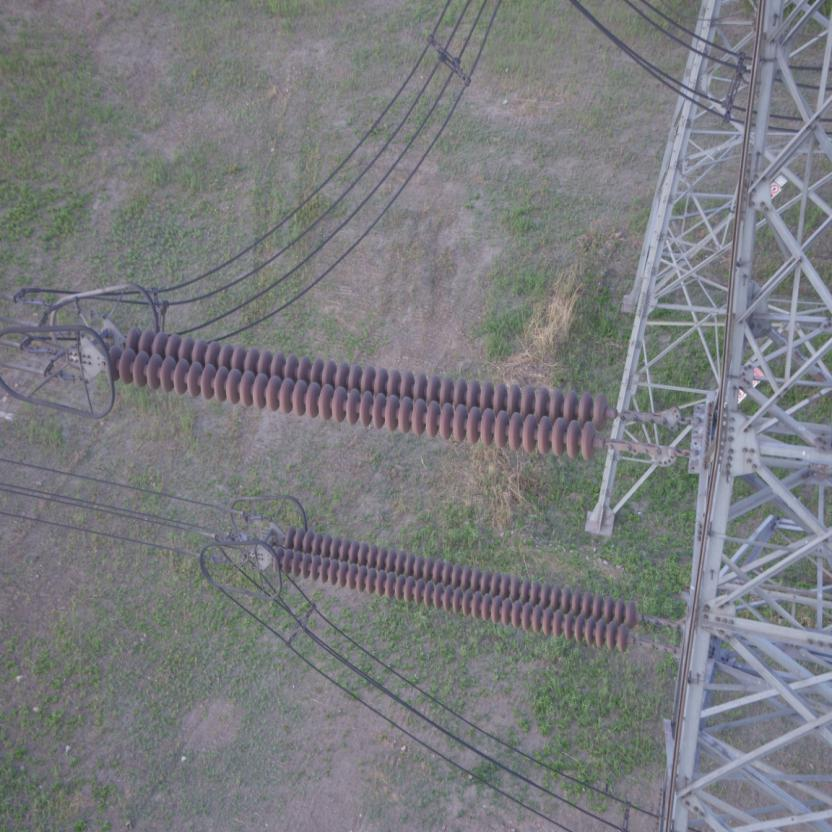insulator: (94, 320, 640, 464), (269, 521, 655, 655)
